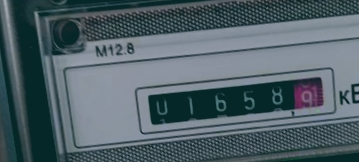0: (154, 94, 170, 118)
1: (184, 94, 197, 117)
5: (241, 88, 258, 112)
6: (212, 90, 229, 114)
8: (269, 83, 285, 107)
9: (298, 89, 314, 111)
screen: (129, 58, 346, 144)
